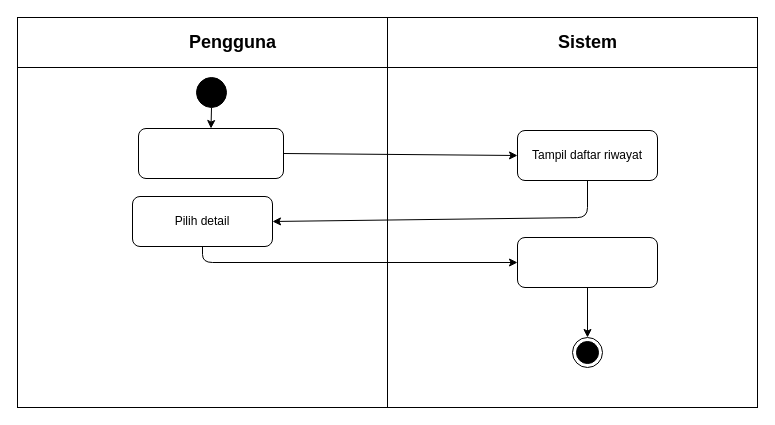
Image size: 775x425. Some labels were removed from this diagram. The shapes that lost their labels are listed below. From the top down, each one's centre as x and y in pixels, then its label:
point (211, 153): Masuk Halaman Riwayat
point (587, 262): Tampil detail riwayat
